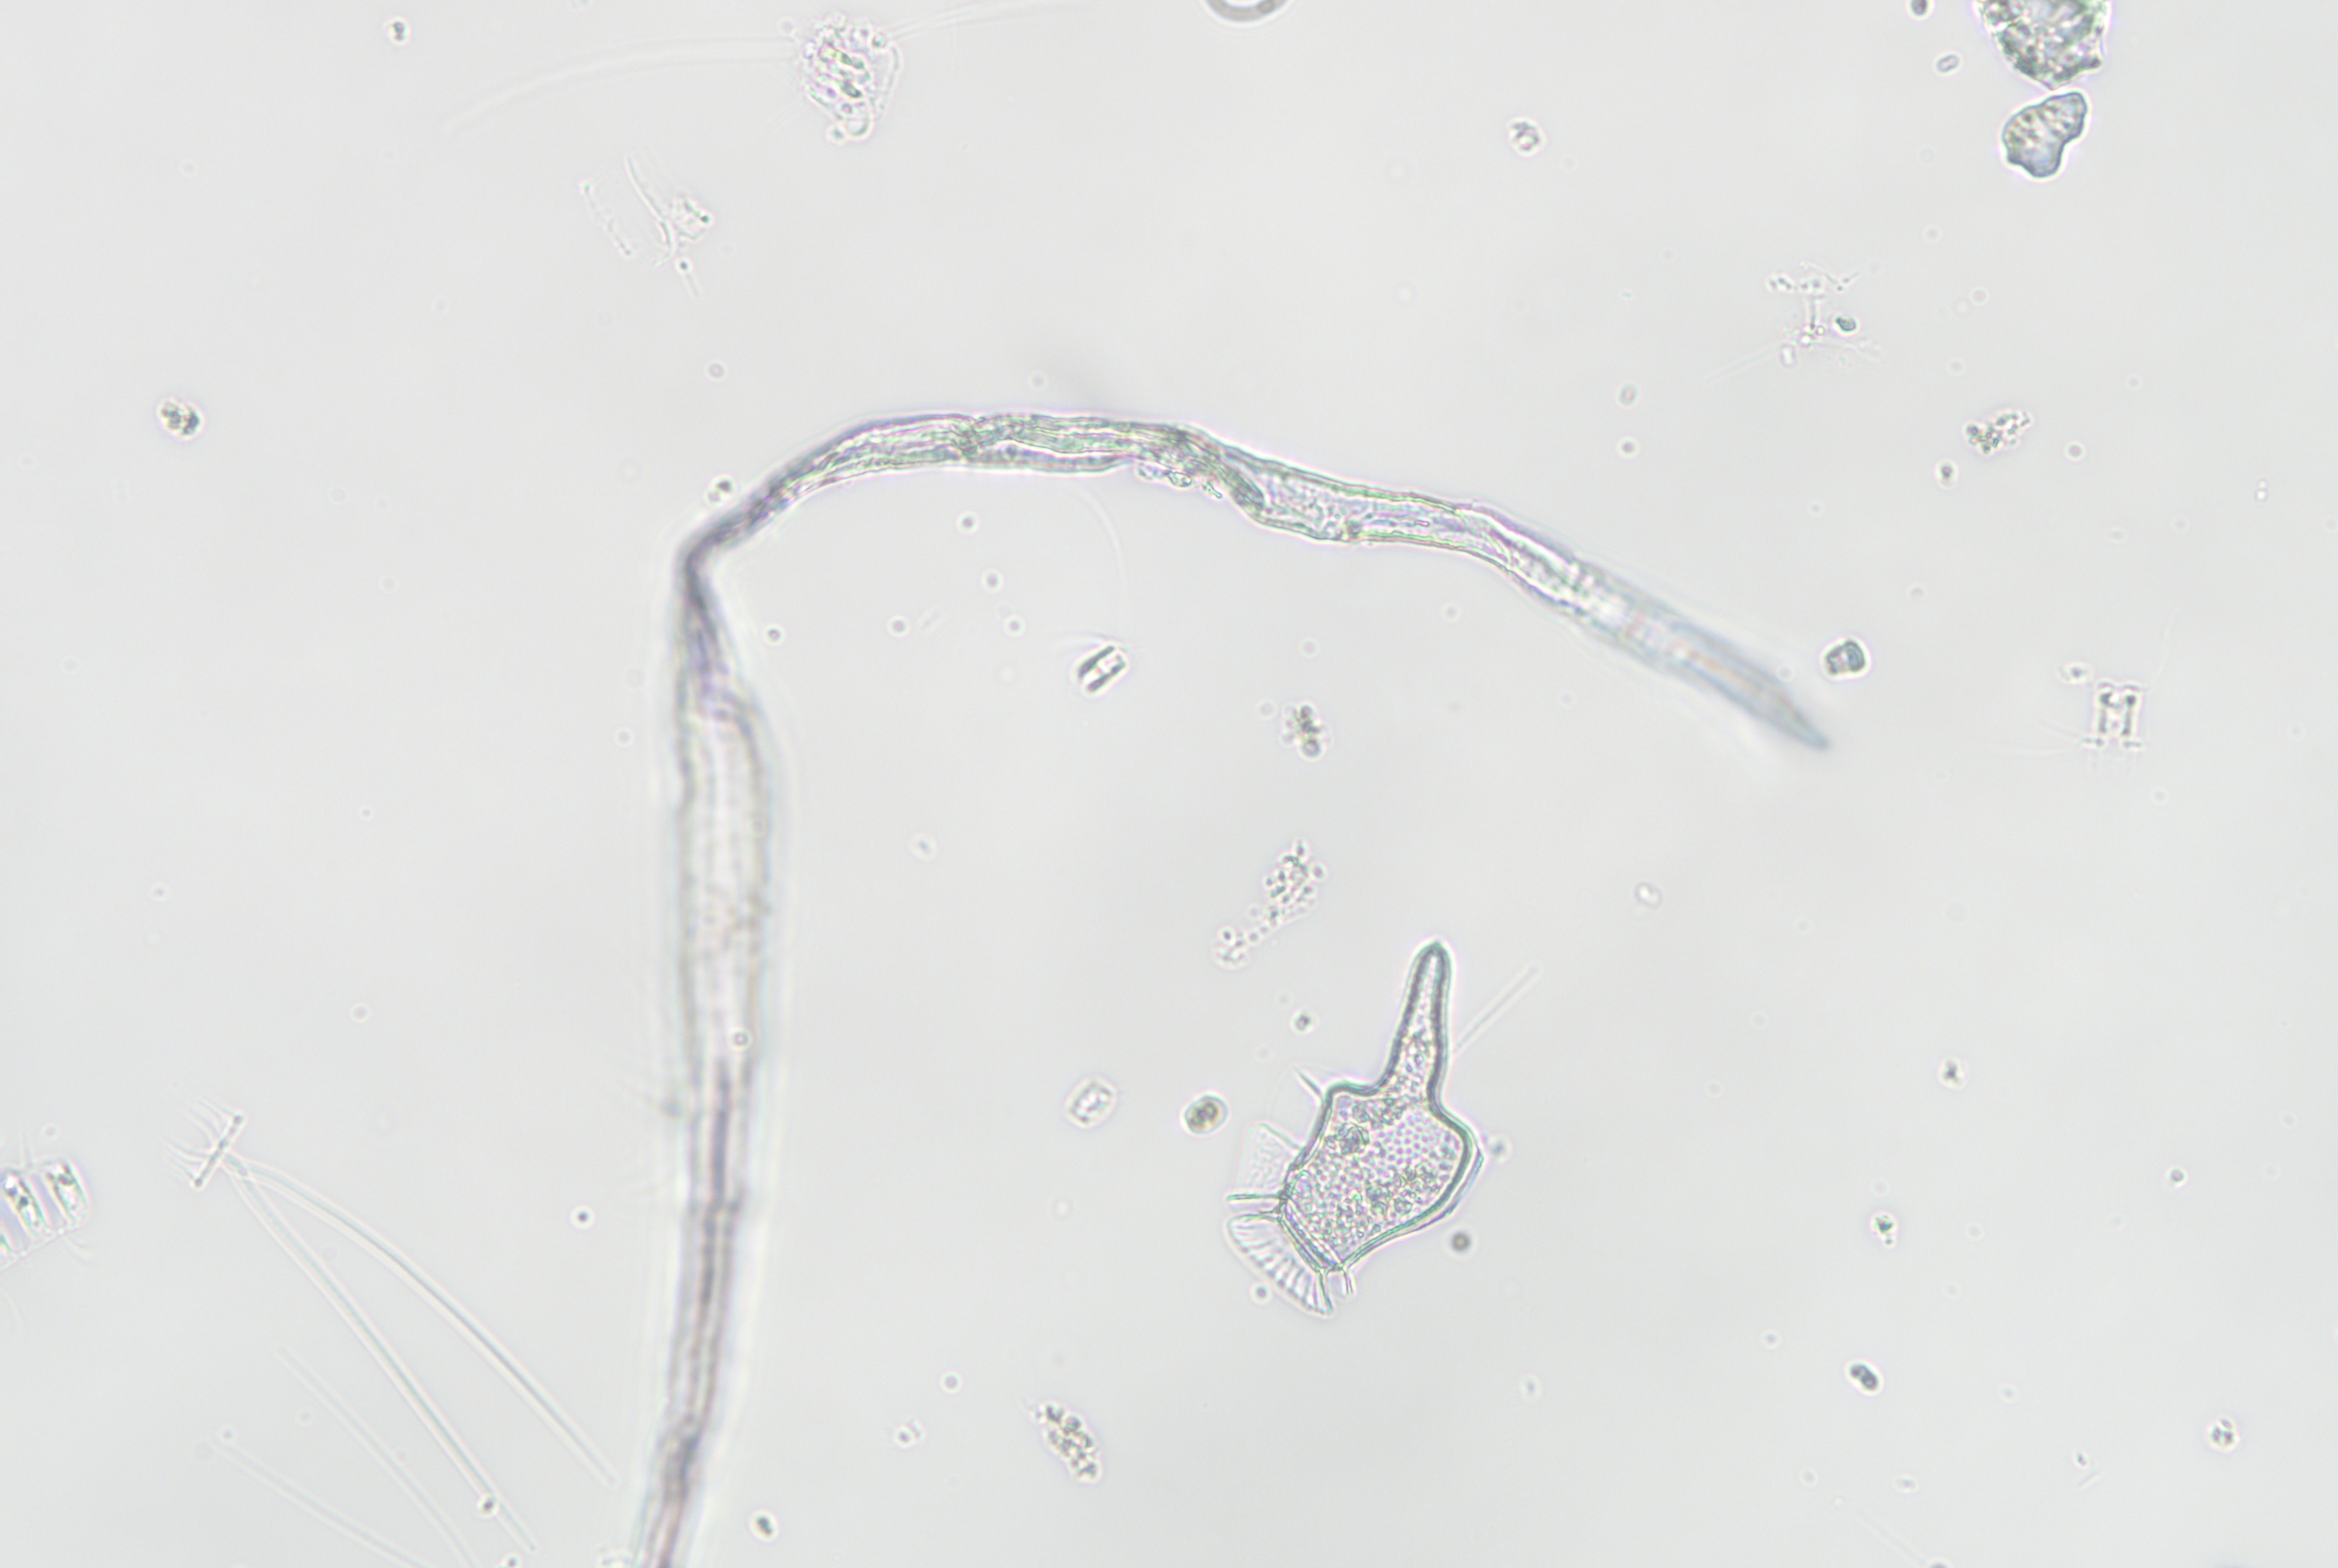dinophysis caudata: (1204, 906, 1510, 1340)
